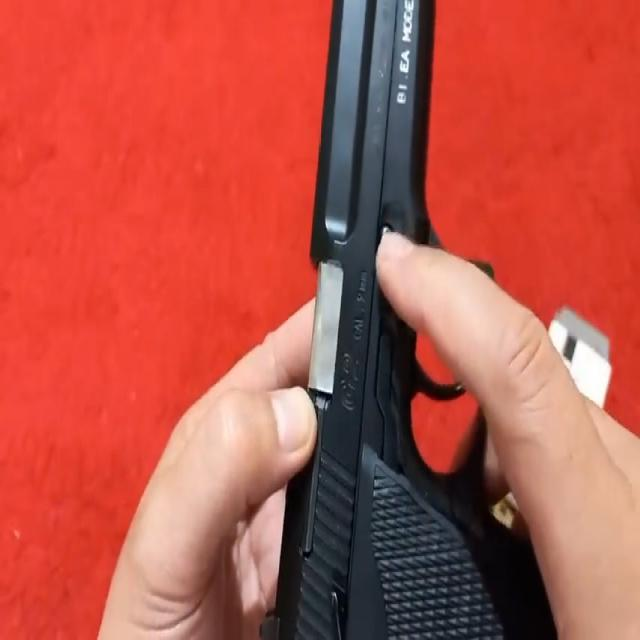handgun: (280, 0, 562, 640)
